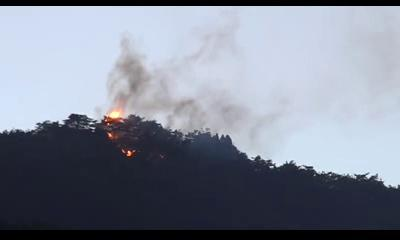fire: (107, 109, 122, 120)
smoke: (114, 27, 236, 106)
